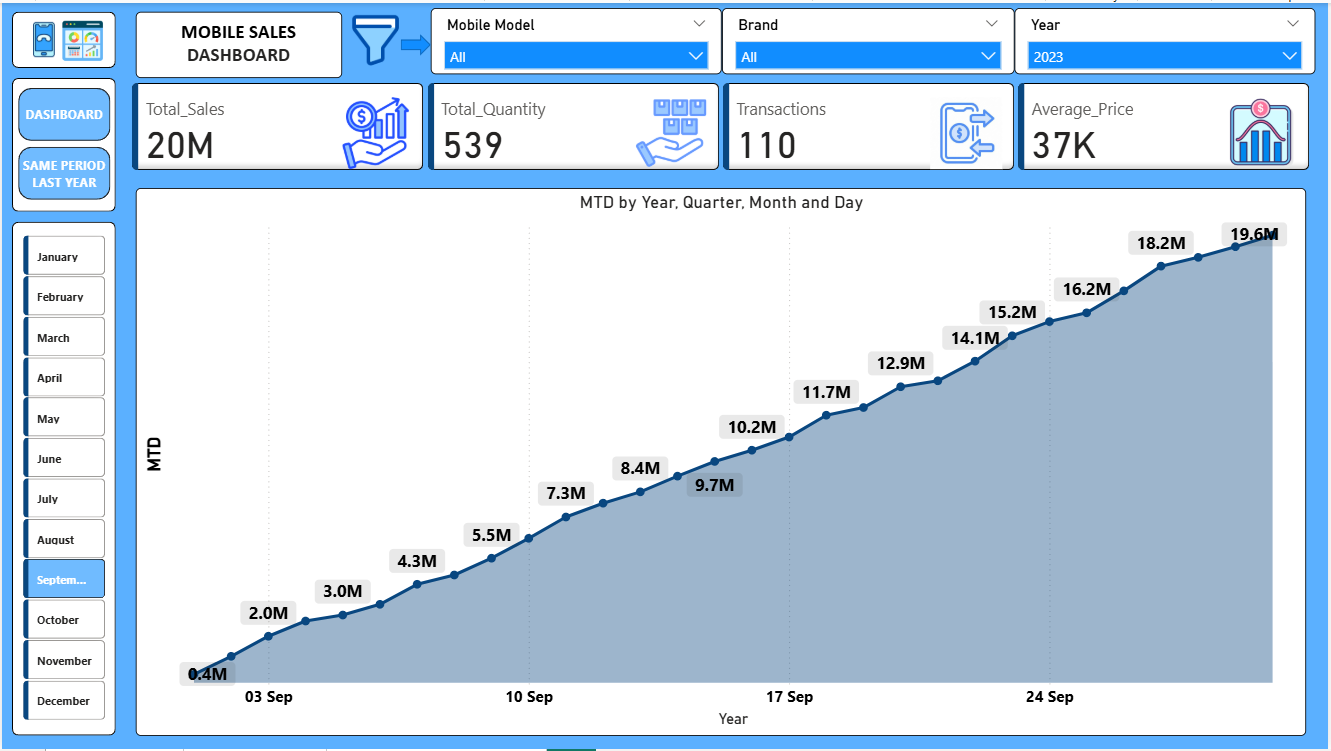

The page's visual inventory and layout, read from the dashboard file:
{"tool":"powerbi","page":{"name":"MTD REPORT","canvas":[1280,720],"ordinal":1},"visuals":[{"type":"shape","box":[9.7,8.4,100.1,54.3],"z":0},{"type":"image","box":[9.7,12.1,61.5,47.1],"z":1000},{"type":"shape","box":[9.7,72.4,100.1,129.1],"z":2000},{"type":"shape","box":[9.7,211.1,100.1,495.8],"z":3000,"group":"g1"},{"type":"textbox","box":[129.1,8.4,199.1,63.9],"z":3000},{"type":"advancedSlicerVisual","fields":{"Values":["Custom_Calendar.Date.Variation.Date Hierarchy.Month"]},"box":[15.7,219.5,89.3,487.4],"z":4000,"group":"g1"},{"type":"cardVisual","fields":{"Data":["Sales_Data.Total_Sales","Sales_Data.Total_Quantity","Sales_Data.Transactions","Sales_Data.Average_Price"]},"box":[120.6,72.4,1147.3,94.1],"z":5000},{"type":"slicer","fields":{"Values":["Sales_Data.Mobile Model"]},"box":[413.8,4.8,281.1,63.9],"z":6000},{"type":"slicer","fields":{"Values":["Sales_Data.Brand"]},"box":[694.9,4.8,282.3,63.9],"z":7000},{"type":"slicer","fields":{"Values":["Custom_Calendar.Date.Variation.Date Hierarchy.Year"]},"box":[977.2,4.8,290.8,63.9],"z":8000},{"type":"image","box":[328.2,0,65.1,72.4],"z":9000},{"type":"shape","box":[384.9,30.2,29,20.5],"z":10000},{"type":"lineChart","fields":{"Y":["Sales_Data.MTD"],"Category":["Custom_Calendar.Date.Variation.Date Hierarchy.Year","Custom_Calendar.Date.Variation.Date Hierarchy.Quarter","Custom_Calendar.Date.Variation.Date Hierarchy.Month","Custom_Calendar.Date.Variation.Date Hierarchy.Day"]},"box":[129.1,178.6,1129.2,528.4],"z":11000},{"type":"group","id":"g1","title":"Group 1","box":[9.7,211.1,100.1,495.8],"z":12000},{"type":"pageNavigator","box":[15.7,82,89.3,109.8],"z":14000},{"type":"image","box":[53.5,7.9,49.5,56.7],"z":14001}]}

Visuals, with their boxes in screenshot pixels (x1, y1, x2, y2), scaled from the page's 1280x720 canvas onto the 1331x751 screenshot:
shape: pyautogui.locateOnScreen(10, 9, 114, 65)
image: pyautogui.locateOnScreen(10, 13, 74, 62)
shape: pyautogui.locateOnScreen(10, 76, 114, 210)
shape: pyautogui.locateOnScreen(10, 220, 114, 737)
textbox: pyautogui.locateOnScreen(134, 9, 341, 75)
advancedSlicerVisual - Custom_Calendar.Date.Variation.Date Hierarchy.Month: pyautogui.locateOnScreen(16, 229, 109, 737)
cardVisual - Sales_Data.Total_Sales x Sales_Data.Total_Quantity: pyautogui.locateOnScreen(125, 76, 1318, 174)
slicer - Sales_Data.Mobile Model: pyautogui.locateOnScreen(430, 5, 723, 72)
slicer - Sales_Data.Brand: pyautogui.locateOnScreen(723, 5, 1016, 72)
slicer - Custom_Calendar.Date.Variation.Date Hierarchy.Year: pyautogui.locateOnScreen(1016, 5, 1319, 72)
image: pyautogui.locateOnScreen(341, 0, 409, 76)
shape: pyautogui.locateOnScreen(400, 32, 430, 53)
lineChart - Sales_Data.MTD x Custom_Calendar.Date.Variation.Date Hierarchy.Year: pyautogui.locateOnScreen(134, 186, 1308, 737)
"Group 1" group: pyautogui.locateOnScreen(10, 220, 114, 737)
pageNavigator: pyautogui.locateOnScreen(16, 86, 109, 200)
image: pyautogui.locateOnScreen(56, 8, 107, 67)
